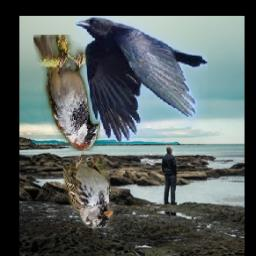Crow: (76, 17, 208, 142)
Sparrow: (33, 36, 100, 152), (62, 153, 113, 229)
